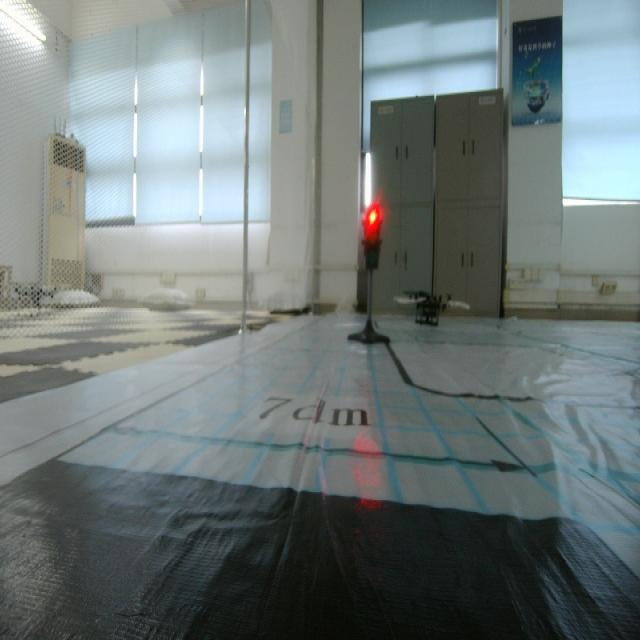red: (356, 197, 385, 278)
